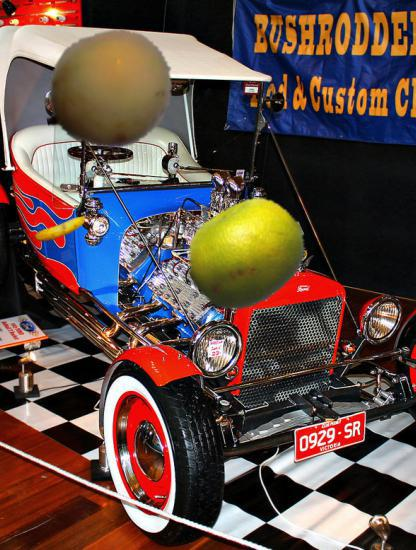Banana: (34, 202, 88, 256)
Pepino: (42, 24, 175, 157)
Pomelo: (187, 194, 308, 315)
